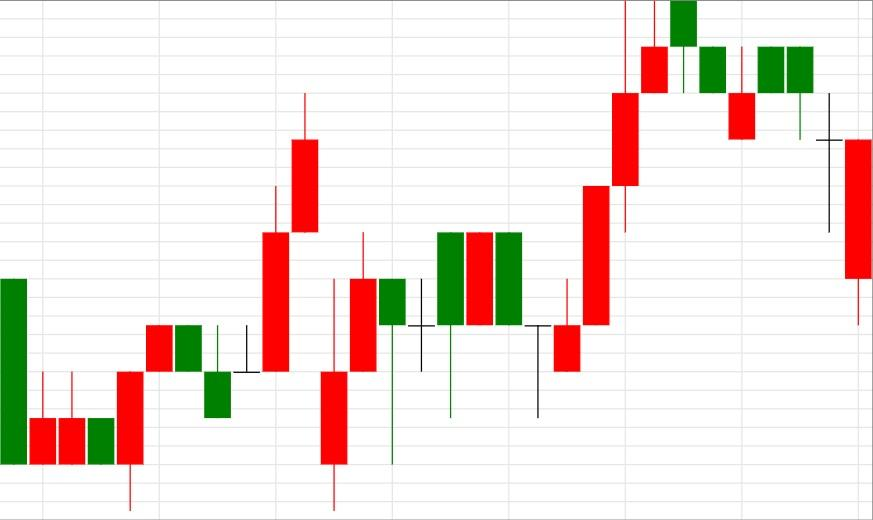bullish_engulfing_rise: (0, 278, 144, 511)
three_white_soldiers_rise: (437, 0, 640, 418)
